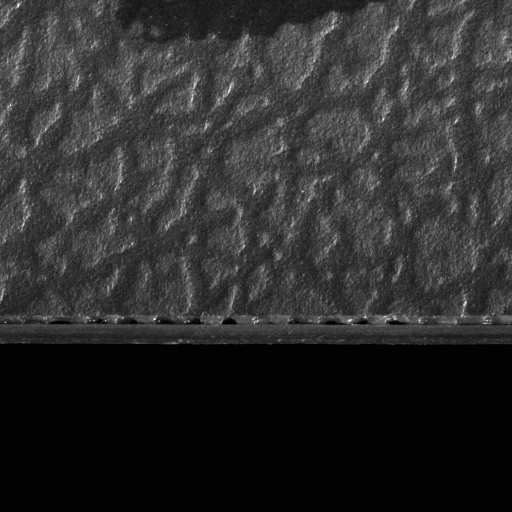kaijiao: (0, 312, 511, 348)
